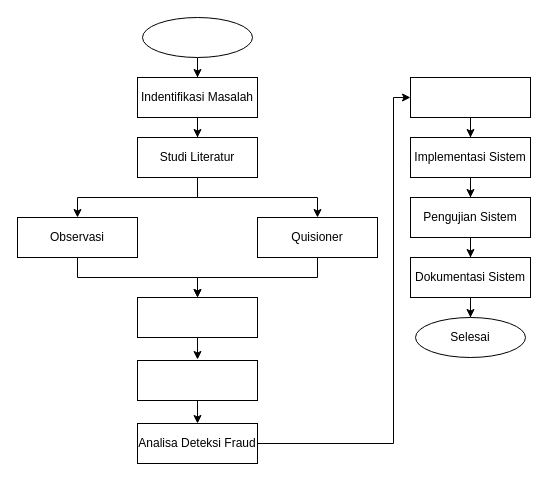
Some shapes in this 548 by 481 pixel diagram are drawn without their labels. The shapes that lost their labels are listed below. From the top down, each one's centre as x and y in pixels, then its label:
the point at 197,37: Mulai
the point at 470,97: Perancangan Sistem
the point at 197,317: Penysunan Instrumen
the point at 197,380: Penerapan Algoritma Random Forest
